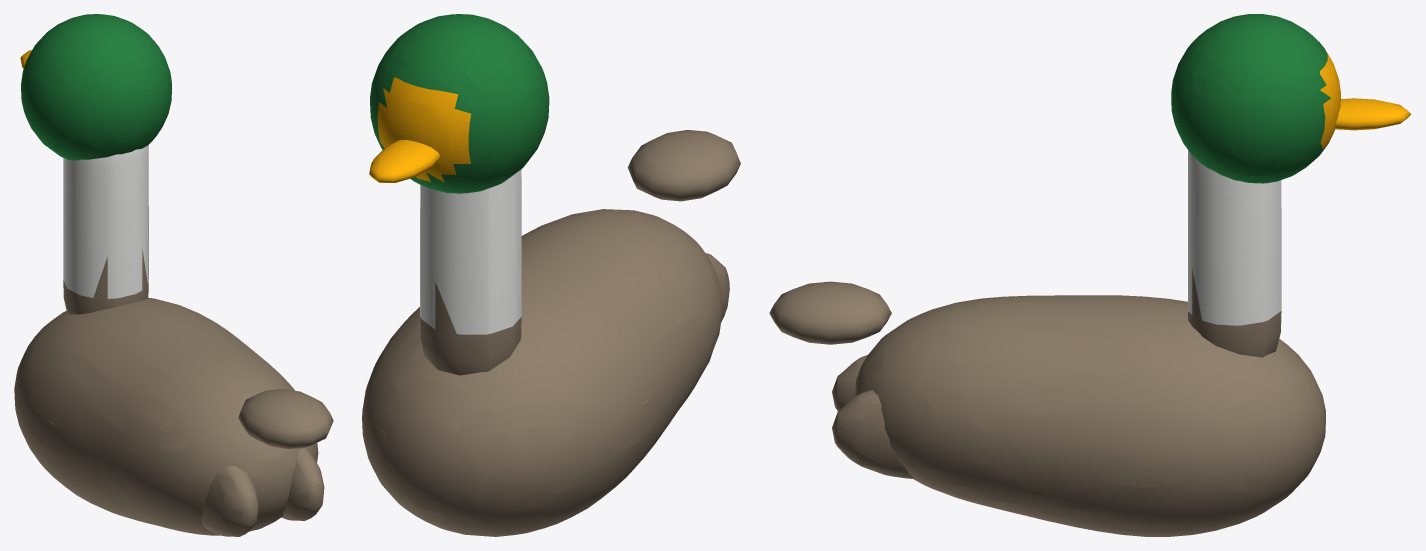
Rendered from animal_duck.glb.
3 renders of one model, left to right at view 1: azimuth 30°, elevation 25°; view 2: azimuth 150°, elevation 25°; view 3: azimuth 270°, elevation 25°, orthographic. The views are drawn at different scales.
Visible parts, largest first — view 1: Body, Head, WingL, WingR; view 2: Body, Head, WingL; view 3: Body, Head, WingR, WingL.
Part boxes in pixels (x1,y1,x2,y2): Body: (14, 145, 333, 535); Head: (20, 14, 171, 160); WingL: (202, 466, 258, 536); WingR: (282, 447, 324, 520); Body: (362, 130, 740, 536); Head: (369, 14, 549, 193); WingL: (706, 253, 729, 322); Body: (769, 150, 1325, 536); Head: (1171, 14, 1411, 183); WingR: (832, 390, 913, 478); WingL: (832, 355, 867, 411).
Size of the model in its own units: 0.2241 by 0.4676 by 0.5435.
